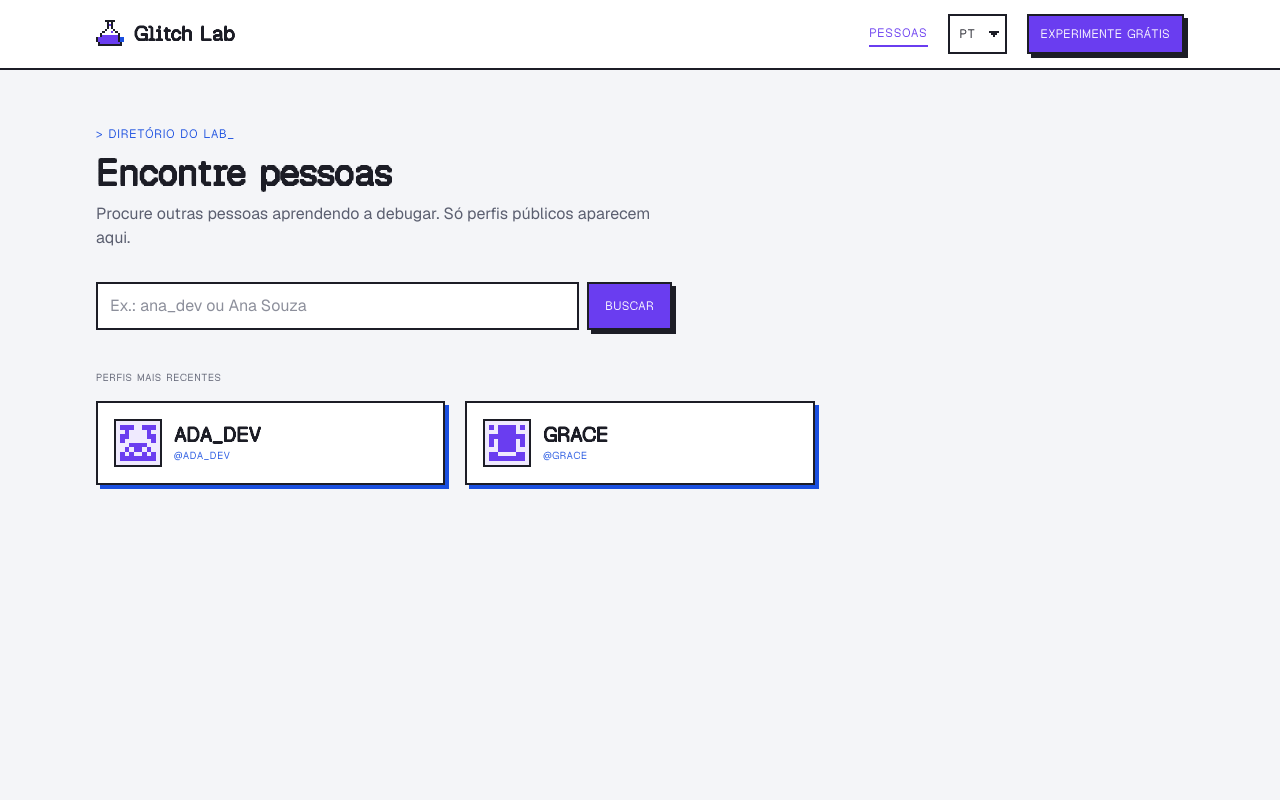
Test: speaks Brazilian Portuguese, roles included
Expected: the heading "Encontre pessoas" is shown, [96,150,392,197]
Expected: the list named "Pessoas" is shown, [96,401,815,485]
Type "ada" into the search field named "Buscar por usuário ou nome" at (338, 306), box [96,282,579,330]
Then press Enter
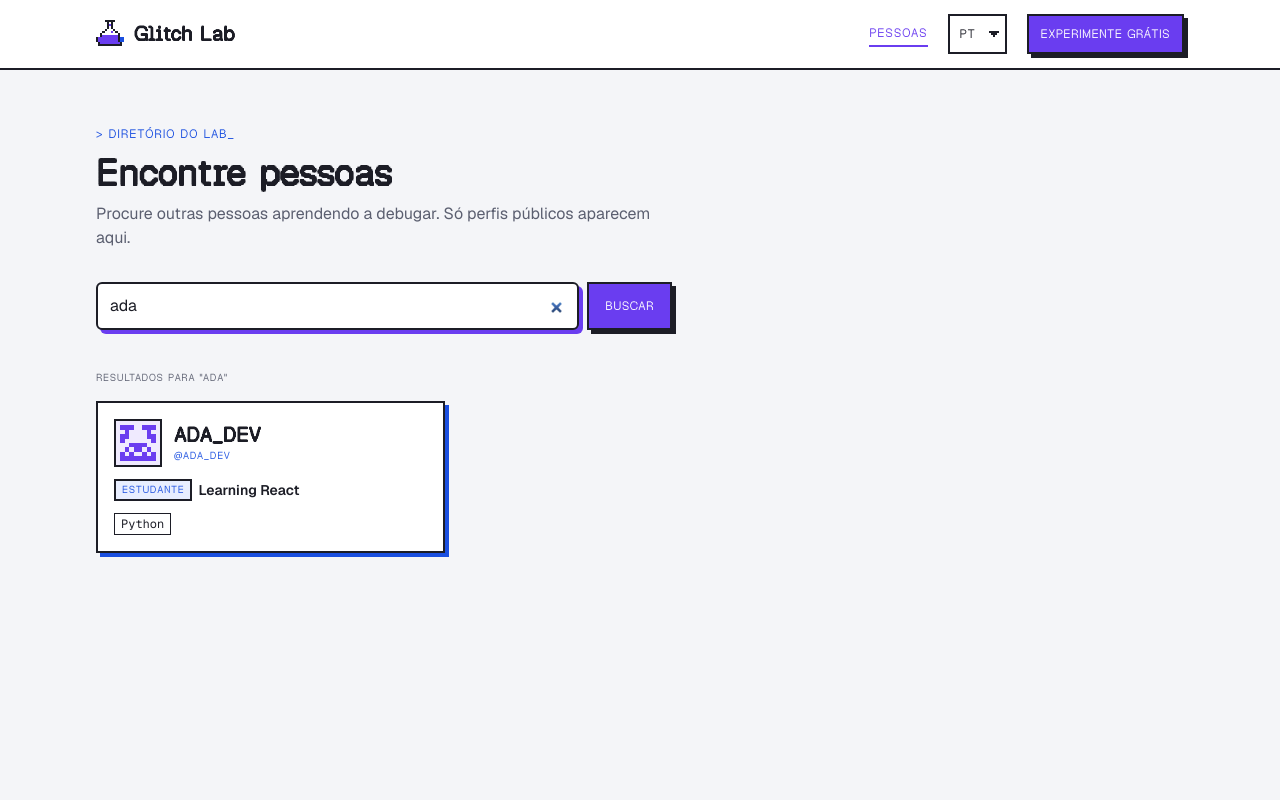
Now the text "Resultados para \"ada\"" is shown, box [96,371,228,384]
Now the text "Estudante" is shown, box [114,479,192,501]
